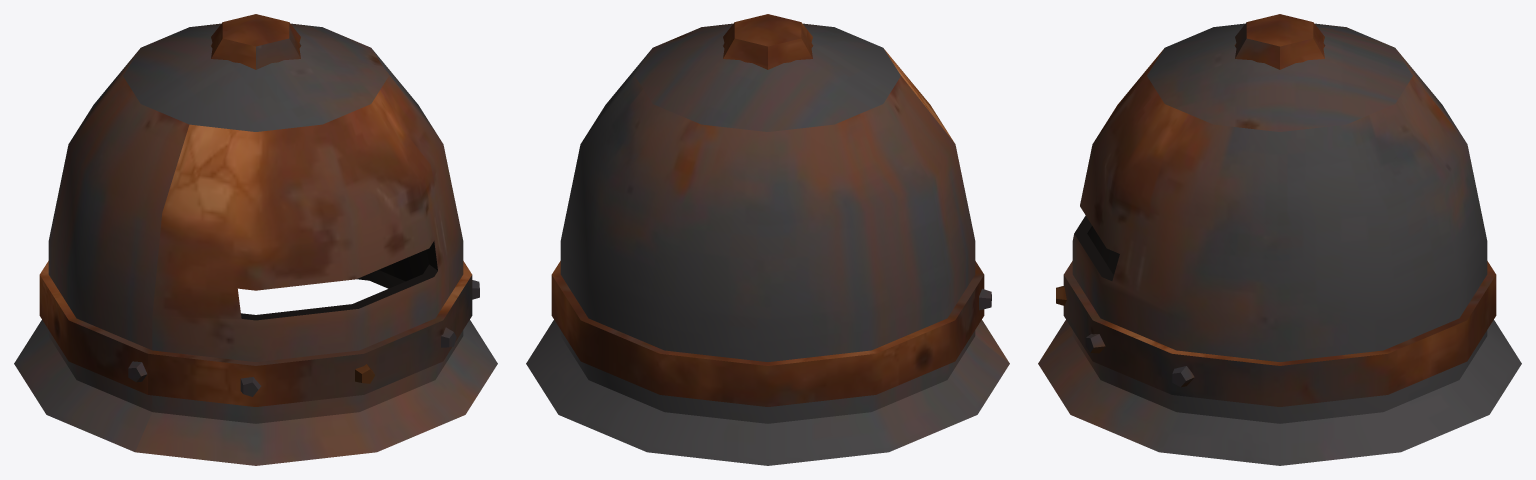
File: Helmet.glb
3 views of the same model, side by side, from view 1: azimuth 30°, elevation 25°; view 2: azimuth 150°, elevation 25°; view 3: azimuth 270°, elevation 25° (orthographic).
Parts seen in each view (by area): view 1: Helmet; view 2: Helmet; view 3: Helmet.
Part boxes in pixels (box(x1,y1,x2,y2)): Helmet: box(14, 14, 497, 465); Helmet: box(526, 14, 1009, 465); Helmet: box(1038, 14, 1521, 465).
Size of the model in its own units: 0.32 by 0.2496 by 0.32.
Materials: 4 (3 with a texture image).
